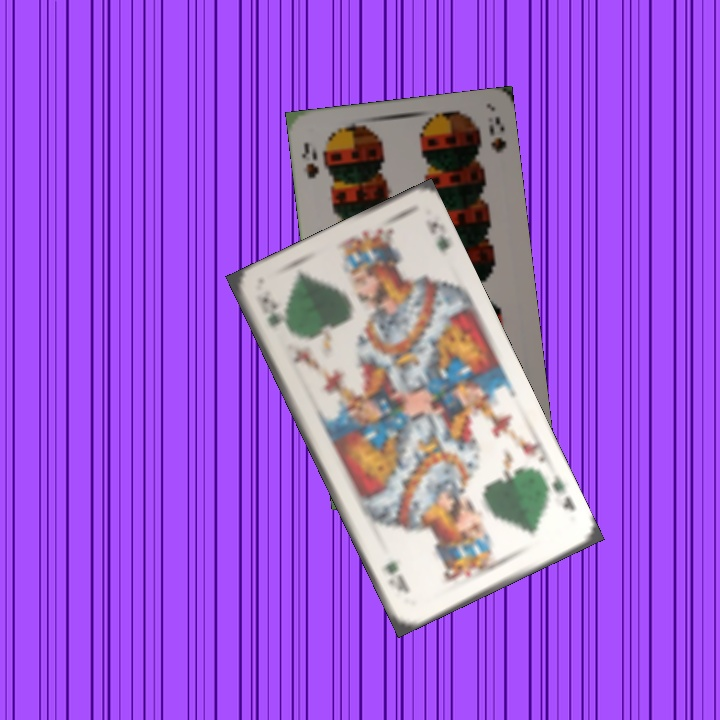GK: (548, 470, 578, 514), (257, 292, 284, 331)
S8: (298, 139, 321, 181)
